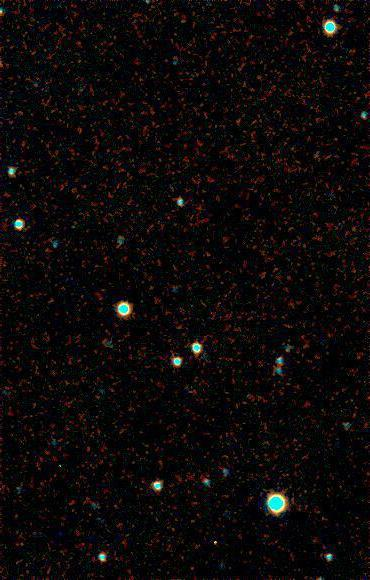star: (198, 530, 228, 560)
